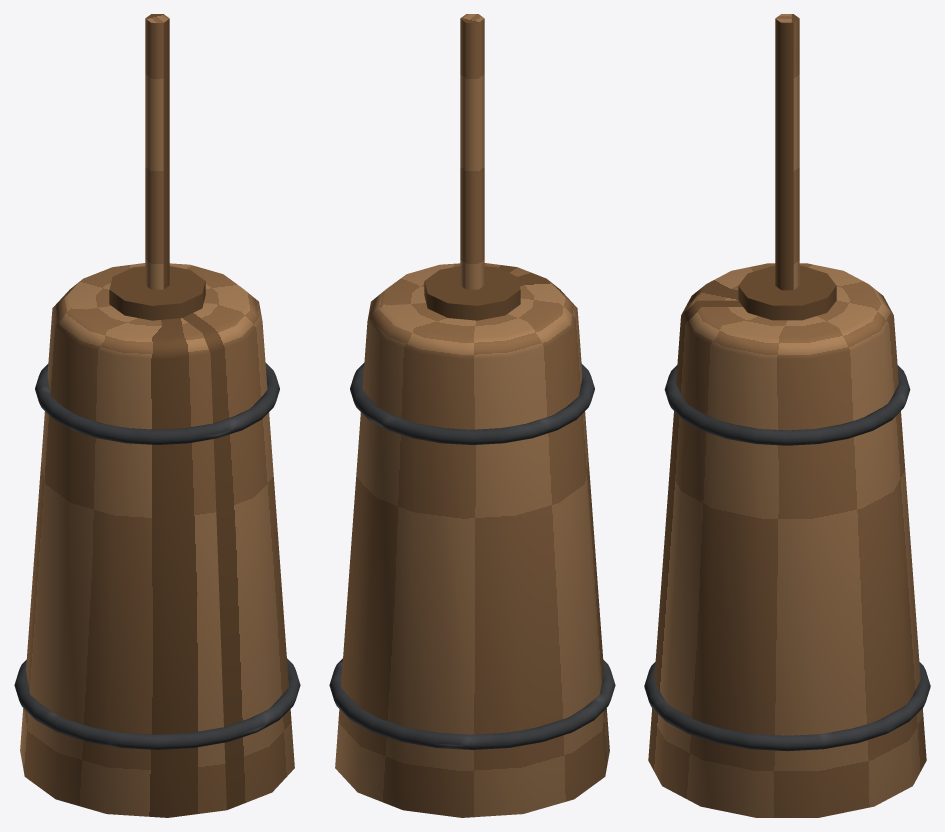
File: butterChurn.glb
The picture shows the model from 3 angles, left to right: view 1: azimuth 30°, elevation 25°; view 2: azimuth 150°, elevation 25°; view 3: azimuth 270°, elevation 25°; orthographic projection.
Visible parts, largest first — view 1: dyn_wood_variant, butterChurn; view 2: dyn_wood_variant, butterChurn; view 3: dyn_wood_variant, butterChurn.
Part boxes in pixels (x1,y1,x2,y2): dyn_wood_variant: [20, 14, 294, 817]; butterChurn: [14, 363, 300, 749]; dyn_wood_variant: [335, 14, 609, 817]; butterChurn: [329, 363, 615, 749]; dyn_wood_variant: [648, 14, 926, 817]; butterChurn: [644, 365, 930, 751].
Size of the model in its own units: 0.3502 by 1 by 0.3502.
2 materials, 2 textured.
